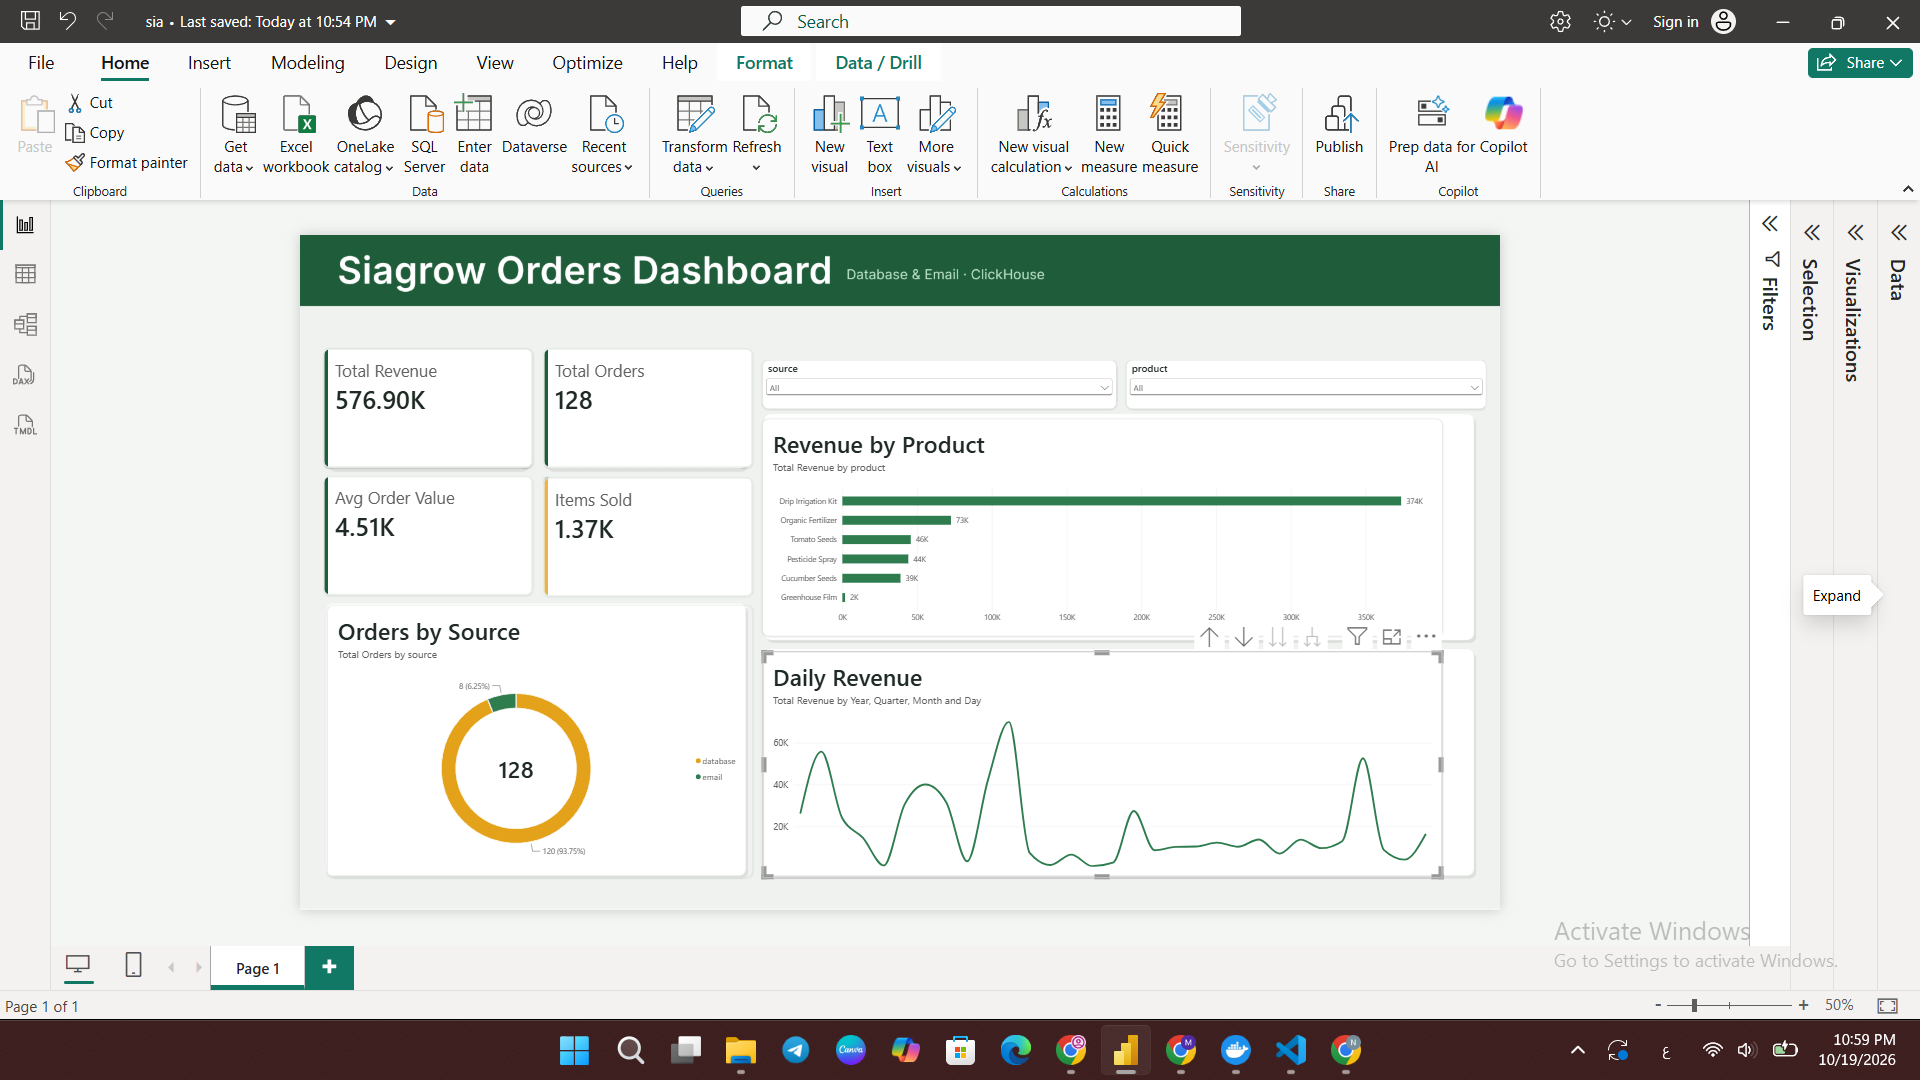

The dashboard page shown, as its layout file describes it:
{"tool":"powerbi","page":{"name":"Page 1","canvas":[1920,1080],"ordinal":0},"visuals":[{"type":"textbox","box":[389,387,10.3,12.3],"z":14000},{"type":"cardVisual","fields":{"Data":["orders_clean.Total Revenue","orders_clean.Total Revenue"]},"box":[38,182,334,190],"z":14001},{"type":"cardVisual","fields":{"Data":["orders_clean.Total Revenue","orders_clean.Total Revenue"]},"box":[38,182,334,190],"z":14002},{"type":"cardVisual","fields":{"Data":["orders_clean.Avg Order Value"]},"box":[38,386,334,190],"z":14003},{"type":"cardVisual","fields":{"Data":["orders_clean.Items Sold"]},"box":[390,388,334,190],"z":14004},{"type":"cardVisual","fields":{"Data":["orders_clean.Total Orders"]},"box":[390,182,334,190],"z":14005},{"type":"slicer","fields":{"Values":["orders_clean.source"]},"box":[740,200,566,78],"z":14006},{"type":"slicer","fields":{"Values":["orders_clean.product"]},"box":[1322,200,576,78],"z":14007},{"type":"donutChart","title":"Orders by Source","fields":{"Category":["orders_clean.source"],"Y":["orders_clean.Total Orders"]},"box":[44,592,680,436],"z":14008},{"type":"clusteredBarChart","title":"Revenue by Product","fields":{"Category":["orders_clean.product"],"Y":["orders_clean.Total Revenue"]},"box":[740,294,1088,348],"z":14009},{"type":"lineChart","title":"Daily Revenue","fields":{"Category":["orders_clean.order_date.Variation.Date Hierarchy.Year","orders_clean.order_date.Variation.Date Hierarchy.Quarter","orders_clean.order_date.Variation.Date Hierarchy.Month","orders_clean.order_date.Variation.Date Hierarchy.Day"],"Y":["orders_clean.Total Revenue"]},"box":[740,666,1088,362],"z":14010}]}

Visuals, with their boxes on the page's 1920x1080 design canvas (x1, y1, x2, y2). These are canvas units, not pixel positions in the 1920x1080 screenshot, which may show the page scaled, cropped or inside an application window:
textbox: 389 387 399 399
cardVisual - orders_clean.Total Revenue x orders_clean.Total Revenue: 38 182 372 372
cardVisual - orders_clean.Total Revenue x orders_clean.Total Revenue: 38 182 372 372
cardVisual - orders_clean.Avg Order Value: 38 386 372 576
cardVisual - orders_clean.Items Sold: 390 388 724 578
cardVisual - orders_clean.Total Orders: 390 182 724 372
slicer - orders_clean.source: 740 200 1306 278
slicer - orders_clean.product: 1322 200 1898 278
"Orders by Source" donutChart: 44 592 724 1028
"Revenue by Product" clusteredBarChart: 740 294 1828 642
"Daily Revenue" lineChart: 740 666 1828 1028
